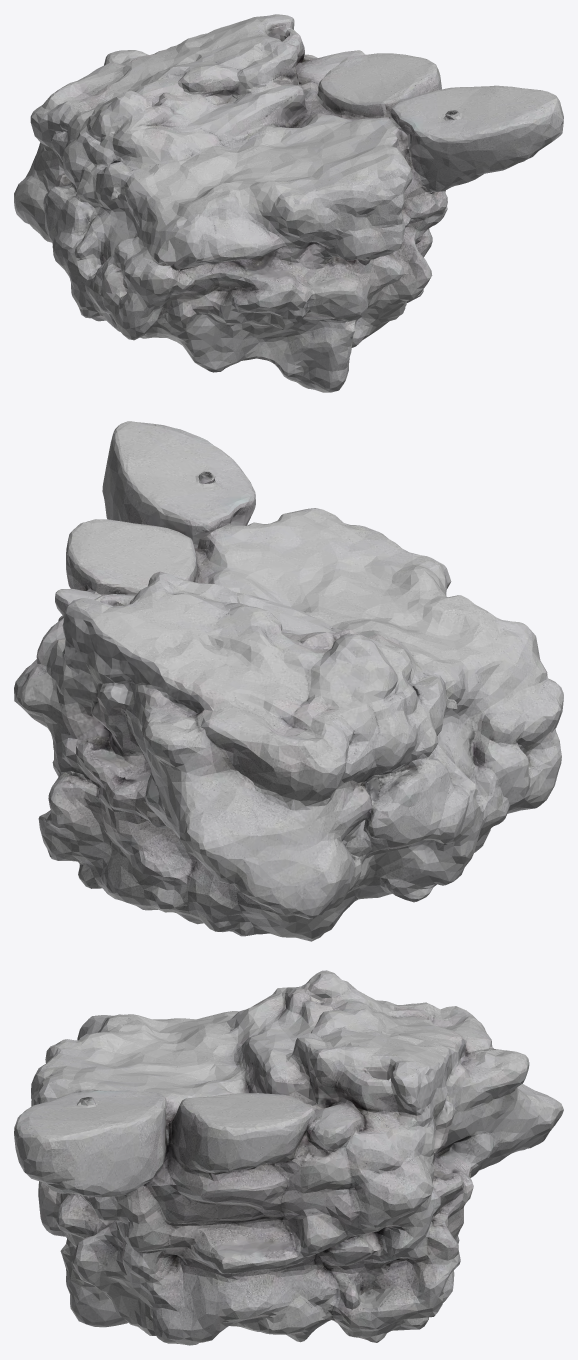
File: wing (73).glb
3 renders of one model, top to bottom at view 1: azimuth 30°, elevation 25°; view 2: azimuth 150°, elevation 25°; view 3: azimuth 270°, elevation 25°, orthographic. The views are drawn at different scales.
Visible parts, largest first — view 1: Hy21_Mesh.obj; view 2: Hy21_Mesh.obj; view 3: Hy21_Mesh.obj.
Boxes of the visible parts, x1,y1,x2,y2 form: Hy21_Mesh.obj: [14, 14, 563, 392]; Hy21_Mesh.obj: [14, 421, 563, 941]; Hy21_Mesh.obj: [14, 970, 563, 1345].
Bounding box in the file's own units: 1.57 × 0.9964 × 1.6.
Materials: 1 (1 with a texture image).
